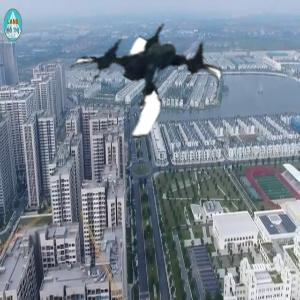drone: (76, 3, 221, 148)
